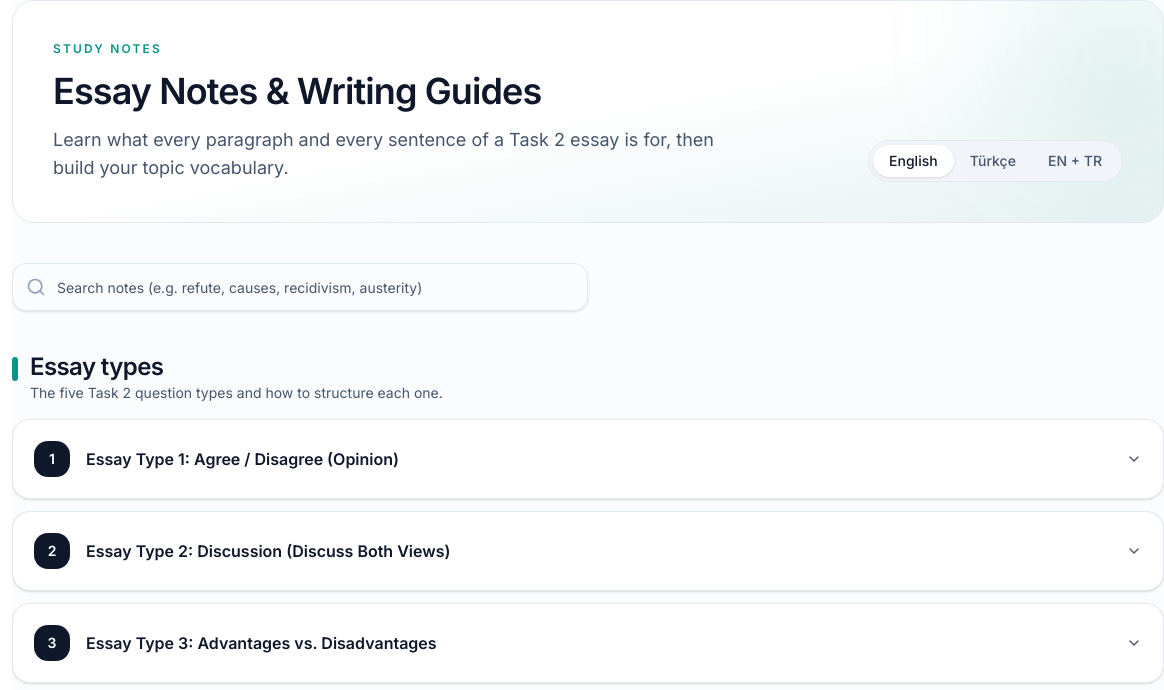
Scenario: NotesBrowser language switch › shows English and Turkish together in EN + TR mode
This screenshot has width=1164, height=690.
Click the button "EN + TR" at (1075, 161), box [1032, 145, 1118, 177]
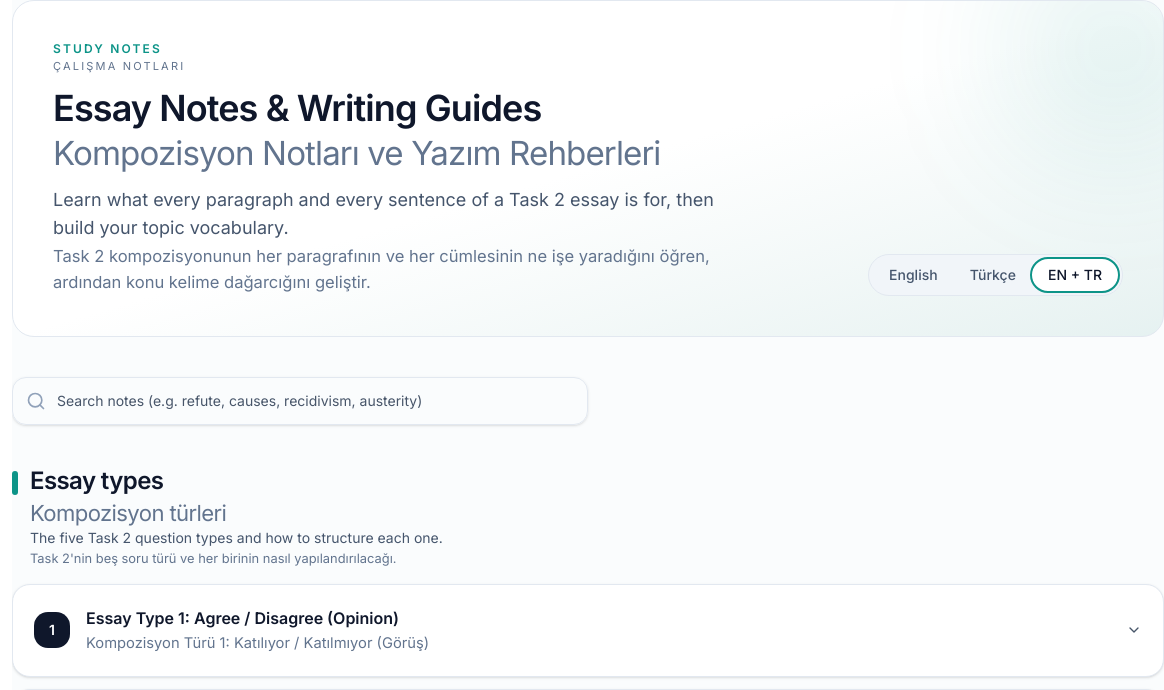
Expected: the text "Essay Type 1: Agree / Disagree (Opinion)" is shown, [86, 608, 399, 628]
Expected: the text "Kompozisyon Türü 1: Katılıyor / Katılmıyor (Görüş)" is shown, [86, 634, 429, 652]
